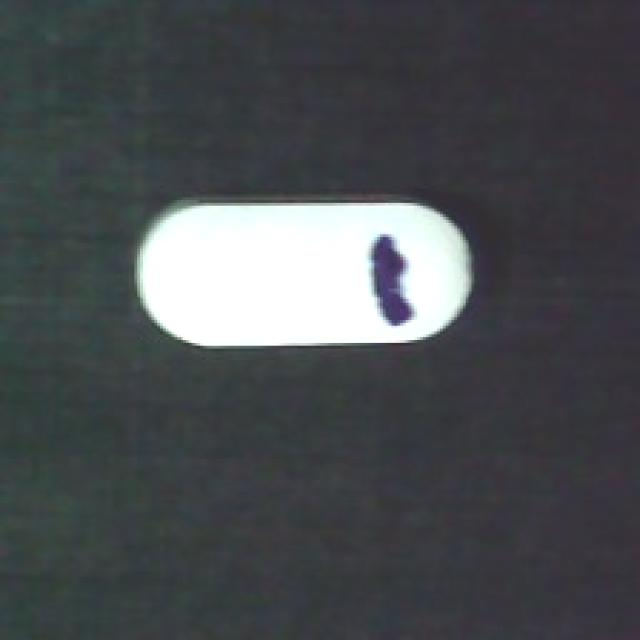defected: (131, 189, 486, 357)
